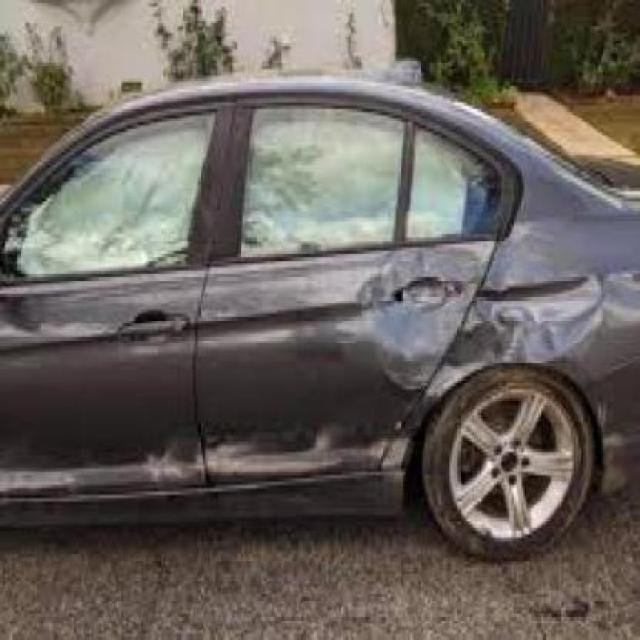doorouter-dent: (282, 248, 486, 399)
quaterpanel-dent: (436, 245, 618, 390)
